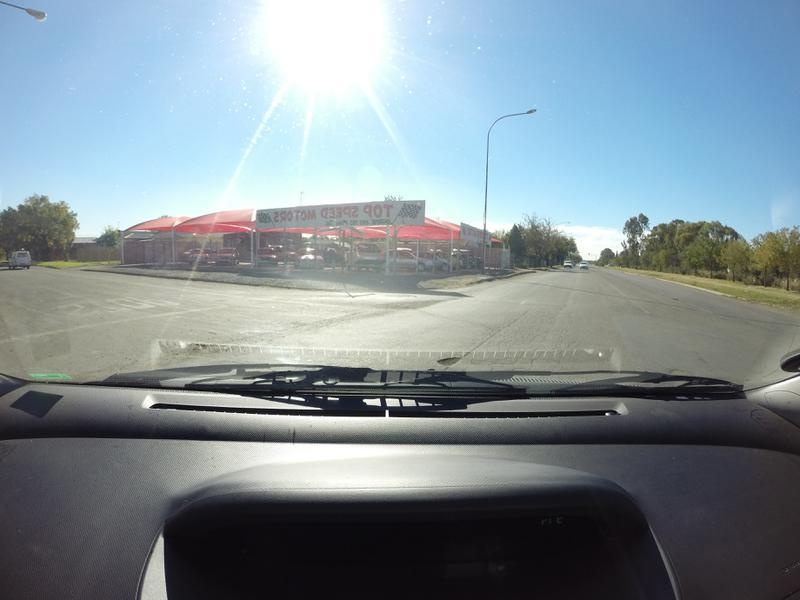pothole: (178, 339, 215, 353), (437, 351, 461, 367)
